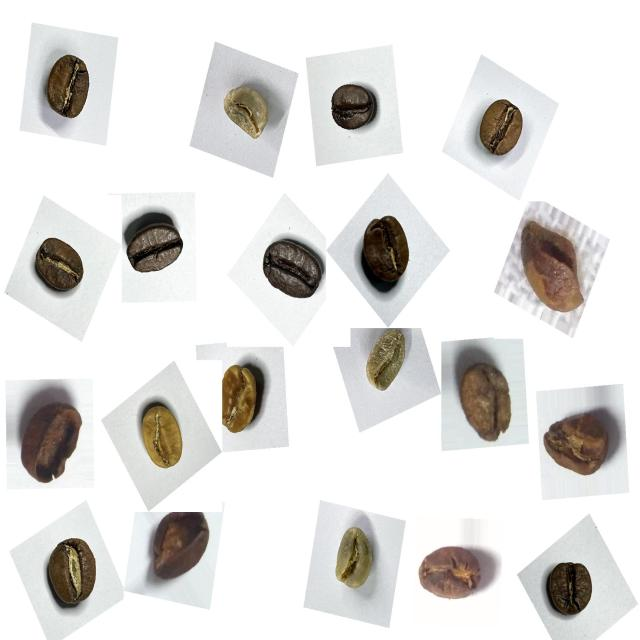bad: (13, 379, 94, 494), (514, 212, 594, 326), (448, 346, 525, 452), (537, 397, 621, 492), (142, 504, 217, 596), (411, 533, 494, 615)
dark: (120, 206, 194, 294), (252, 230, 327, 314), (319, 75, 384, 147)
green: (322, 517, 388, 605), (213, 74, 280, 152), (356, 326, 416, 404)
light: (205, 352, 272, 444), (130, 393, 198, 481)
medium: (36, 528, 110, 618), (354, 205, 422, 298), (37, 48, 103, 133), (28, 228, 94, 306), (469, 91, 534, 169), (538, 556, 603, 629)
